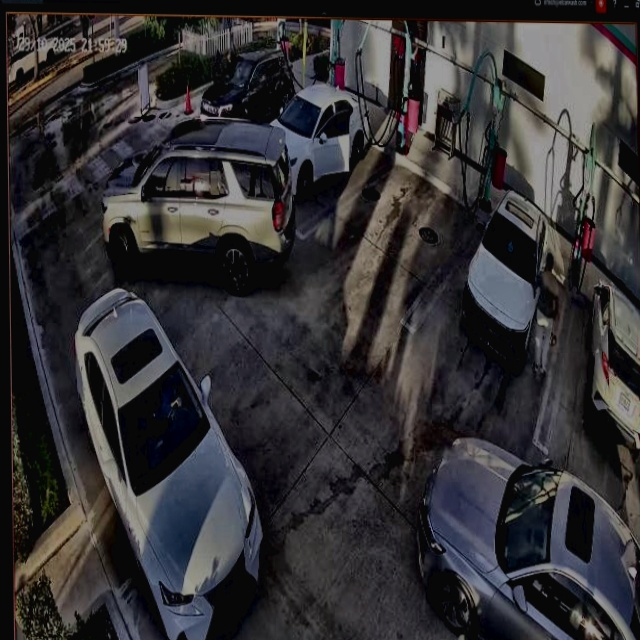Car: (73, 289, 266, 640), (418, 435, 640, 640), (103, 117, 296, 292), (464, 189, 551, 363), (273, 83, 373, 196)
